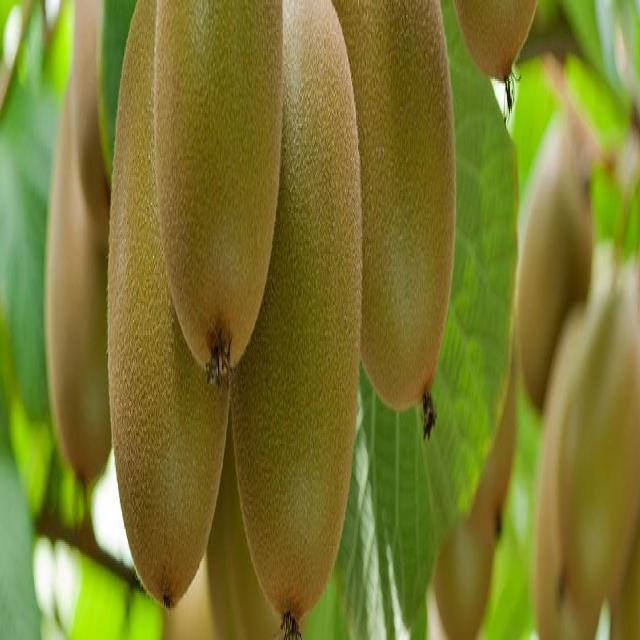kiwi: (233, 1, 366, 640), (107, 3, 232, 616), (151, 1, 293, 381), (358, 1, 455, 443), (44, 80, 118, 498), (558, 250, 640, 621), (510, 95, 598, 415), (433, 464, 502, 640), (70, 1, 118, 240), (451, 1, 546, 101)
